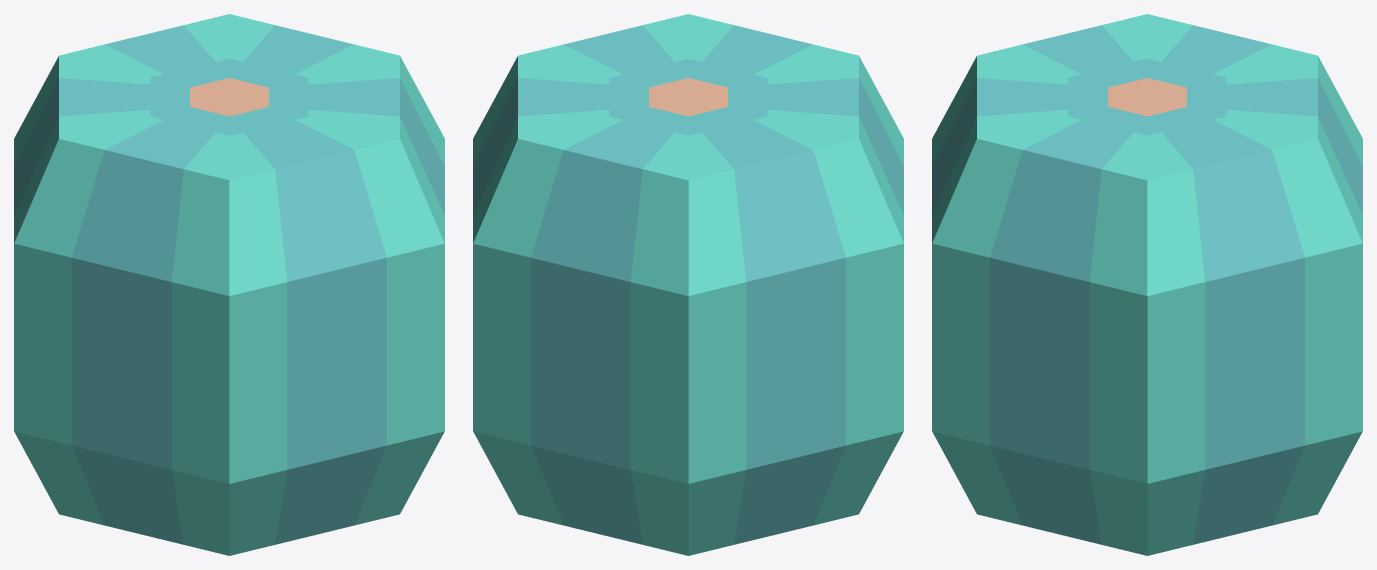
File: crop_melon.gltf
3 views of the same model, side by side, from view 1: azimuth 30°, elevation 25°; view 2: azimuth 150°, elevation 25°; view 3: azimuth 270°, elevation 25° (orthographic).
Visible parts, largest first — view 1: crop_melon; view 2: crop_melon; view 3: crop_melon.
Boxes of the visible parts, left/top/right/bottom form: crop_melon: left=14, top=14, right=444, bottom=555; crop_melon: left=473, top=14, right=903, bottom=555; crop_melon: left=932, top=14, right=1362, bottom=555.
Size of the model in its own units: 0.4176 by 0.348 by 0.3617.
